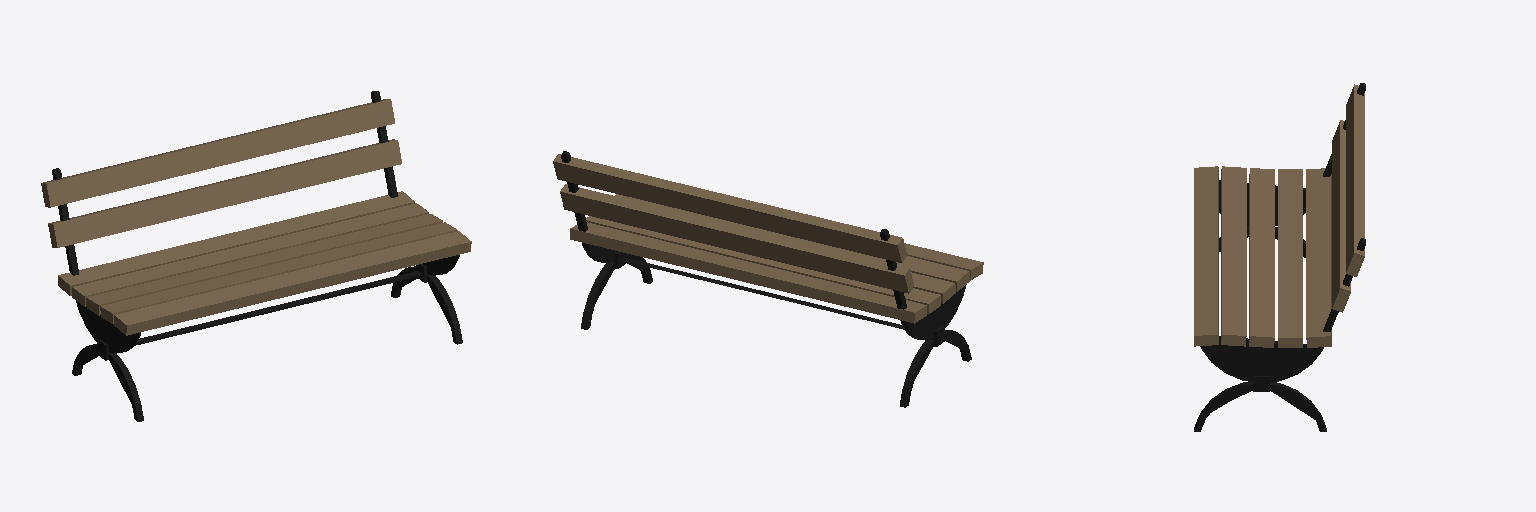
The model's file is Bench_Wood_Park.obj.
3 renders of one model, left to right at view 1: azimuth 30°, elevation 25°; view 2: azimuth 150°, elevation 25°; view 3: azimuth 270°, elevation 25°, orthographic.
Parts seen in each view (by area): view 1: Mesh9 board7 Model, Mesh6 board6 Model, Mesh1 board1 Model, Mesh5 board5 Model, Mesh4 board4 Model, Mesh3 board3 Model, Mesh2 board2 Model, Mesh11 curved_leg_1_2 Model, Mesh14 Model, Mesh10 curved_leg2 Model, Mesh7 curved_leg1 Model, Mesh8 curved_leg_1_1 Model; view 2: Mesh6 board6 Model, Mesh9 board7 Model, Mesh5 board5 Model, Mesh4 board4 Model, Mesh2 board2 Model, Mesh11 curved_leg_1_2 Model, Mesh14 Model, Mesh10 curved_leg2 Model, Mesh7 curved_leg1 Model, Mesh1 board1 Model, Mesh8 curved_leg_1_1 Model, Mesh3 board3 Model; view 3: Mesh3 board3 Model, Mesh2 board2 Model, Mesh4 board4 Model, Mesh1 board1 Model, Mesh5 board5 Model, Mesh8 curved_leg_1_1 Model, Mesh9 board7 Model, Mesh6 board6 Model, Mesh7 curved_leg1 Model, Mesh11 curved_leg_1_2 Model.
Boxes of the visible parts, <box> form: Mesh9 board7 Model: <box>41,99,394,207</box>; Mesh6 board6 Model: <box>48,139,401,247</box>; Mesh1 board1 Model: <box>114,231,471,335</box>; Mesh5 board5 Model: <box>58,191,414,295</box>; Mesh4 board4 Model: <box>72,203,428,306</box>; Mesh3 board3 Model: <box>86,214,442,315</box>; Mesh2 board2 Model: <box>100,222,457,323</box>; Mesh11 curved_leg_1_2 Model: <box>52,168,140,353</box>; Mesh14 Model: <box>135,271,421,345</box>; Mesh10 curved_leg2 Model: <box>72,344,143,421</box>; Mesh7 curved_leg1 Model: <box>391,266,462,344</box>; Mesh8 curved_leg_1_1 Model: <box>371,91,459,275</box>; Mesh6 board6 Model: <box>560,184,913,293</box>; Mesh9 board7 Model: <box>553,154,906,262</box>; Mesh5 board5 Model: <box>570,222,926,323</box>; Mesh4 board4 Model: <box>586,216,940,313</box>; Mesh2 board2 Model: <box>615,194,969,291</box>; Mesh11 curved_leg_1_2 Model: <box>880,229,966,340</box>; Mesh14 Model: <box>621,257,903,329</box>; Mesh10 curved_leg2 Model: <box>900,330,971,407</box>; Mesh7 curved_leg1 Model: <box>581,253,652,329</box>; Mesh1 board1 Model: <box>905,243,983,280</box>; Mesh8 curved_leg_1_1 Model: <box>561,151,617,262</box>; Mesh3 board3 Model: <box>911,272,955,303</box>; Mesh3 board3 Model: <box>1249,168,1274,347</box>; Mesh2 board2 Model: <box>1221,166,1246,346</box>; Mesh4 board4 Model: <box>1278,169,1302,347</box>; Mesh1 board1 Model: <box>1194,166,1218,346</box>; Mesh5 board5 Model: <box>1306,168,1331,347</box>; Mesh8 curved_leg_1_1 Model: <box>1200,238,1365,381</box>; Mesh9 board7 Model: <box>1346,84,1364,276</box>; Mesh6 board6 Model: <box>1332,120,1350,312</box>; Mesh7 curved_leg1 Model: <box>1194,382,1326,431</box>; Mesh11 curved_leg_1_2 Model: <box>1219,83,1365,225</box>.
Size of the model in its own units: 66 by 34.97 by 28.64.